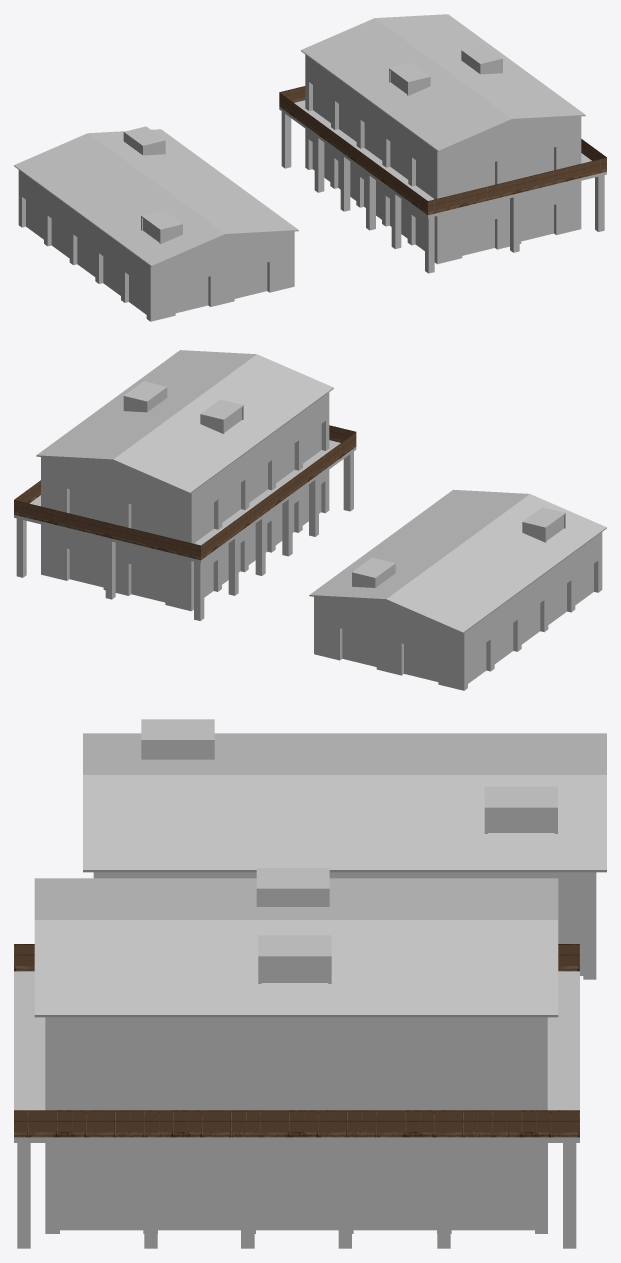
The model's file is storage_building.FBX.
3 renders of one model, top to bottom at view 1: azimuth 30°, elevation 25°; view 2: azimuth 150°, elevation 25°; view 3: azimuth 270°, elevation 25°, orthographic. The views are drawn at different scales.
Visible parts, largest first — view 1: storage_building-1_B_LOD0, storage_building-1_A_LOD0; view 2: storage_building-1_B_LOD0, storage_building-1_A_LOD0; view 3: storage_building-1_B_LOD0, storage_building-1_A_LOD0.
Part boxes in pixels (<box>): storage_building-1_B_LOD0: <box>279,14,606,273</box>; storage_building-1_A_LOD0: <box>14,126,298,321</box>; storage_building-1_B_LOD0: <box>14,350,356,620</box>; storage_building-1_A_LOD0: <box>309,489,606,690</box>; storage_building-1_B_LOD0: <box>14,868,579,1248</box>; storage_building-1_A_LOD0: <box>83,719,606,979</box>.
Size of what is drawn, in the model's own units: 3544 by 2188 by 1046.
